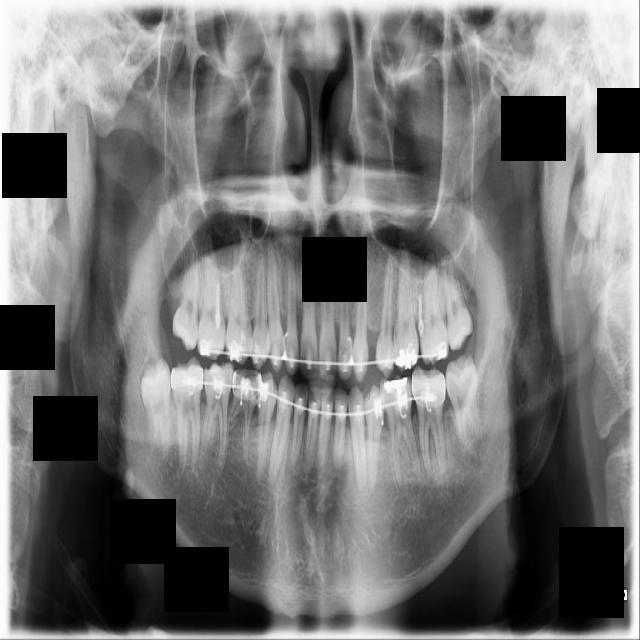3M ESPE Implant: (171, 224, 202, 351)
52: (377, 372, 419, 424), (168, 356, 206, 406), (227, 366, 265, 407), (411, 365, 446, 409), (203, 362, 233, 406)
73: (616, 610, 624, 618)
BioHorizons Implant: (409, 239, 452, 367)
BioLife Implant: (439, 232, 476, 353)
Biomet 3i Implant: (442, 354, 486, 454)
Blue Sky Bio Implant: (411, 365, 446, 479)
Caries: (197, 233, 227, 361)
Implant: (171, 356, 203, 470)
Keystone Dental Implant: (139, 357, 177, 462)
